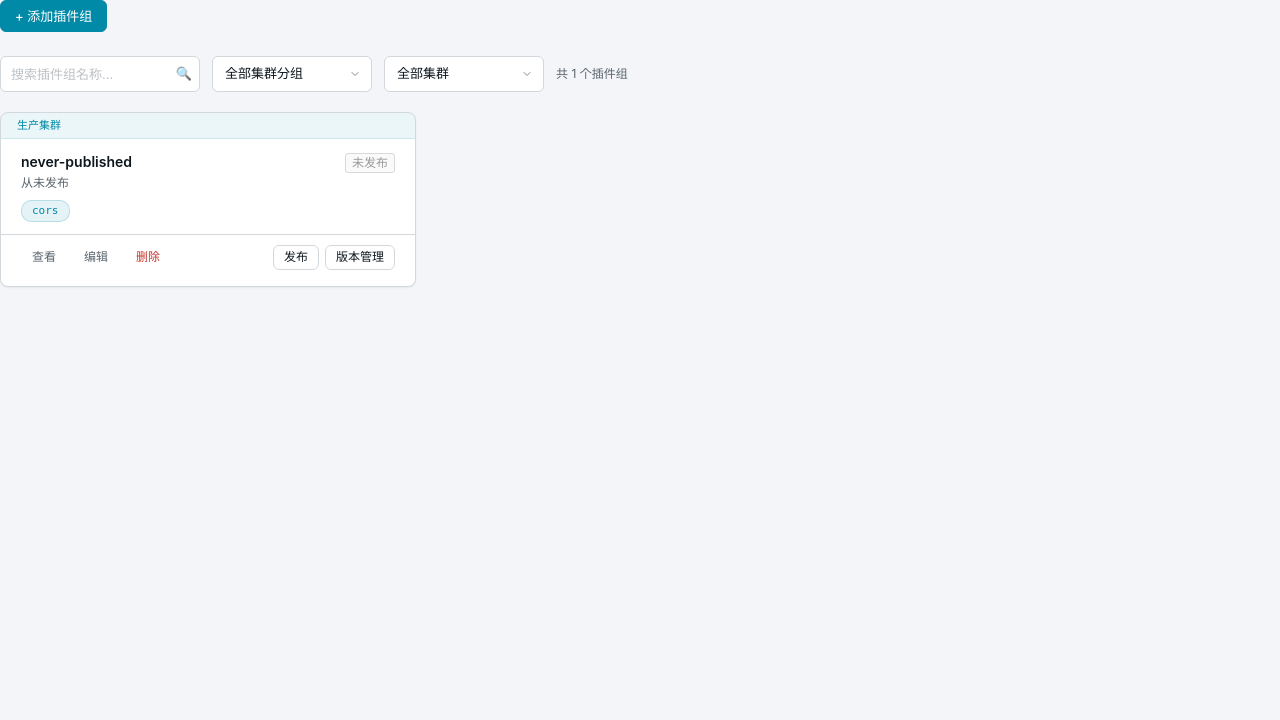
Test: PluginConfigList.vue — 删除前置引用检查（决策 A/B） › 被引用：不弹共享删除确认，改阻断提示列出引用路由名；无任何删除入口（操作仅「我知道了」）
The width and height of the screenshot is (1280, 720).
Click the button "删除".
click(148, 258)  # box x1=125 y1=245 x2=171 y2=270
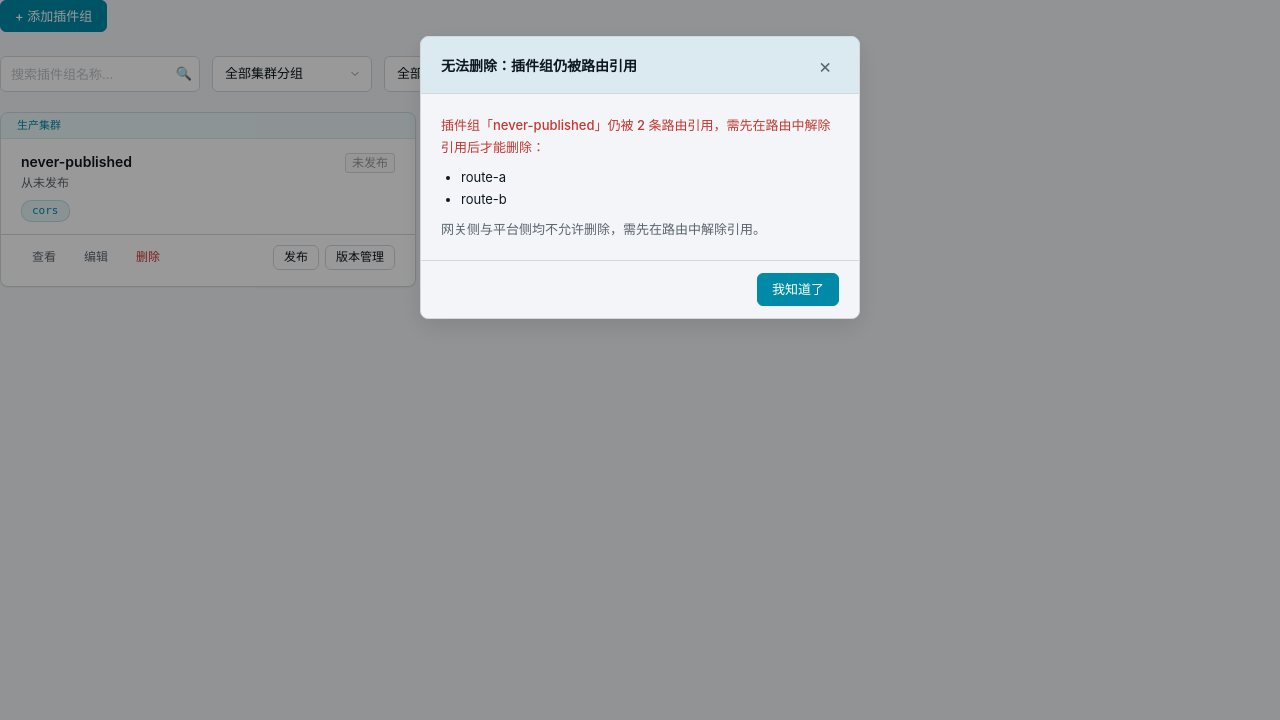
Expected: the element with class "modal-overlay" is shown
